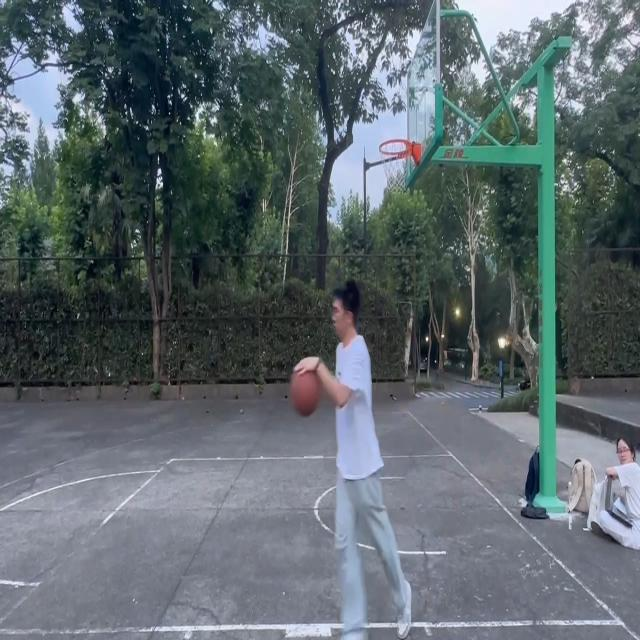basketball: (377, 140, 422, 194)
rim: (288, 356, 325, 417)
